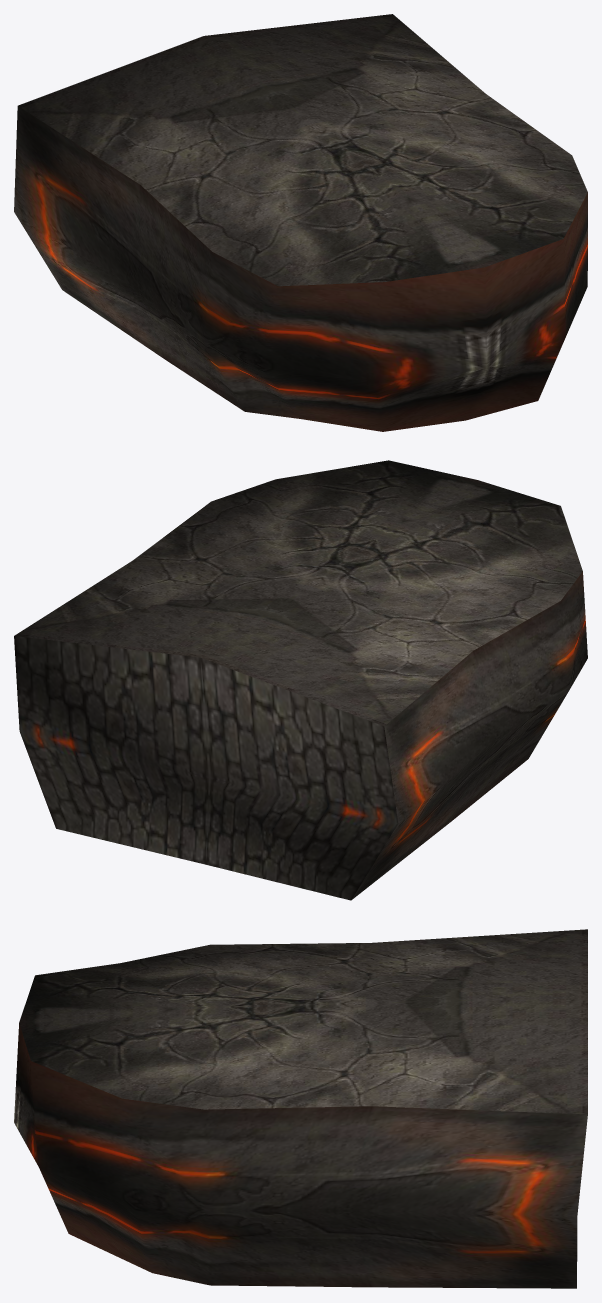
File: Altar-door.obj
3 renders of one model, top to bottom at view 1: azimuth 30°, elevation 25°; view 2: azimuth 150°, elevation 25°; view 3: azimuth 270°, elevation 25°, orthographic. The views are drawn at different scales.
Visible parts, largest first — view 1: (null); view 2: (null); view 3: (null).
Part boxes in pixels (left/top/right/bottom): (null): left=14, top=14, right=587, bottom=431; (null): left=14, top=460, right=587, bottom=900; (null): left=14, top=929, right=587, bottom=1288.
Size of the model in its own units: 4 by 2.15 by 5.11.
